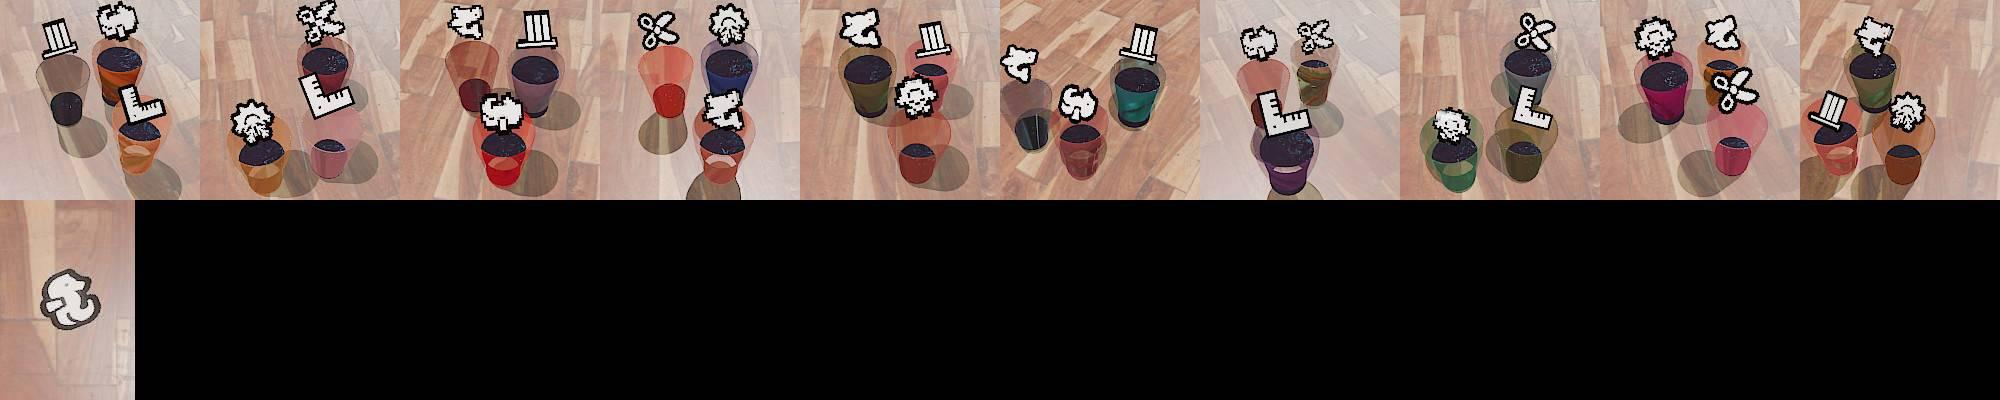icon: (37, 268, 101, 331), (297, 70, 355, 121), (1254, 88, 1307, 139), (1713, 65, 1760, 115), (296, 0, 346, 45), (230, 98, 276, 144), (117, 83, 166, 126), (478, 88, 524, 132), (1633, 15, 1677, 61), (1511, 84, 1554, 132), (894, 75, 939, 120), (700, 89, 745, 131), (514, 9, 559, 50), (636, 10, 679, 52), (707, 4, 750, 45), (839, 8, 883, 48), (1809, 89, 1849, 131), (1515, 11, 1556, 54), (1057, 83, 1099, 124), (96, 1, 139, 41), (1121, 22, 1161, 65), (1853, 17, 1894, 57), (999, 43, 1038, 85), (40, 18, 79, 60), (1888, 92, 1927, 131), (1432, 106, 1472, 144), (1240, 24, 1279, 61), (446, 4, 486, 41), (1704, 15, 1741, 52), (1296, 19, 1333, 56), (917, 19, 953, 56)
